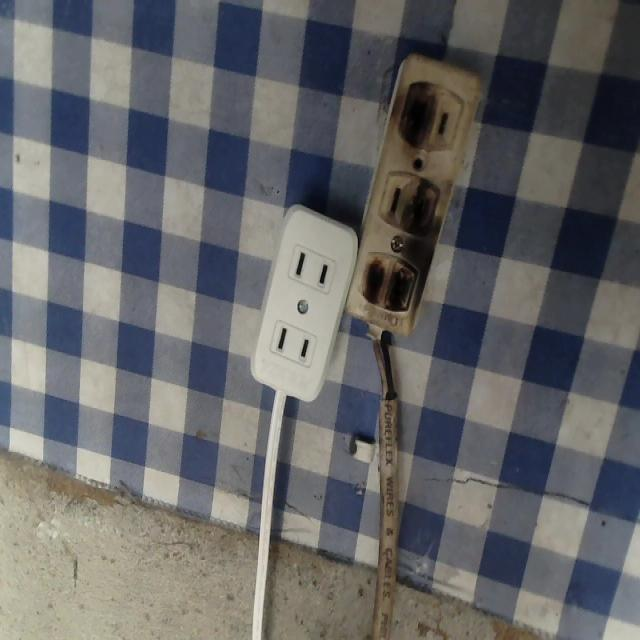-: (363, 248, 418, 320), (406, 176, 448, 241), (397, 75, 434, 144)
